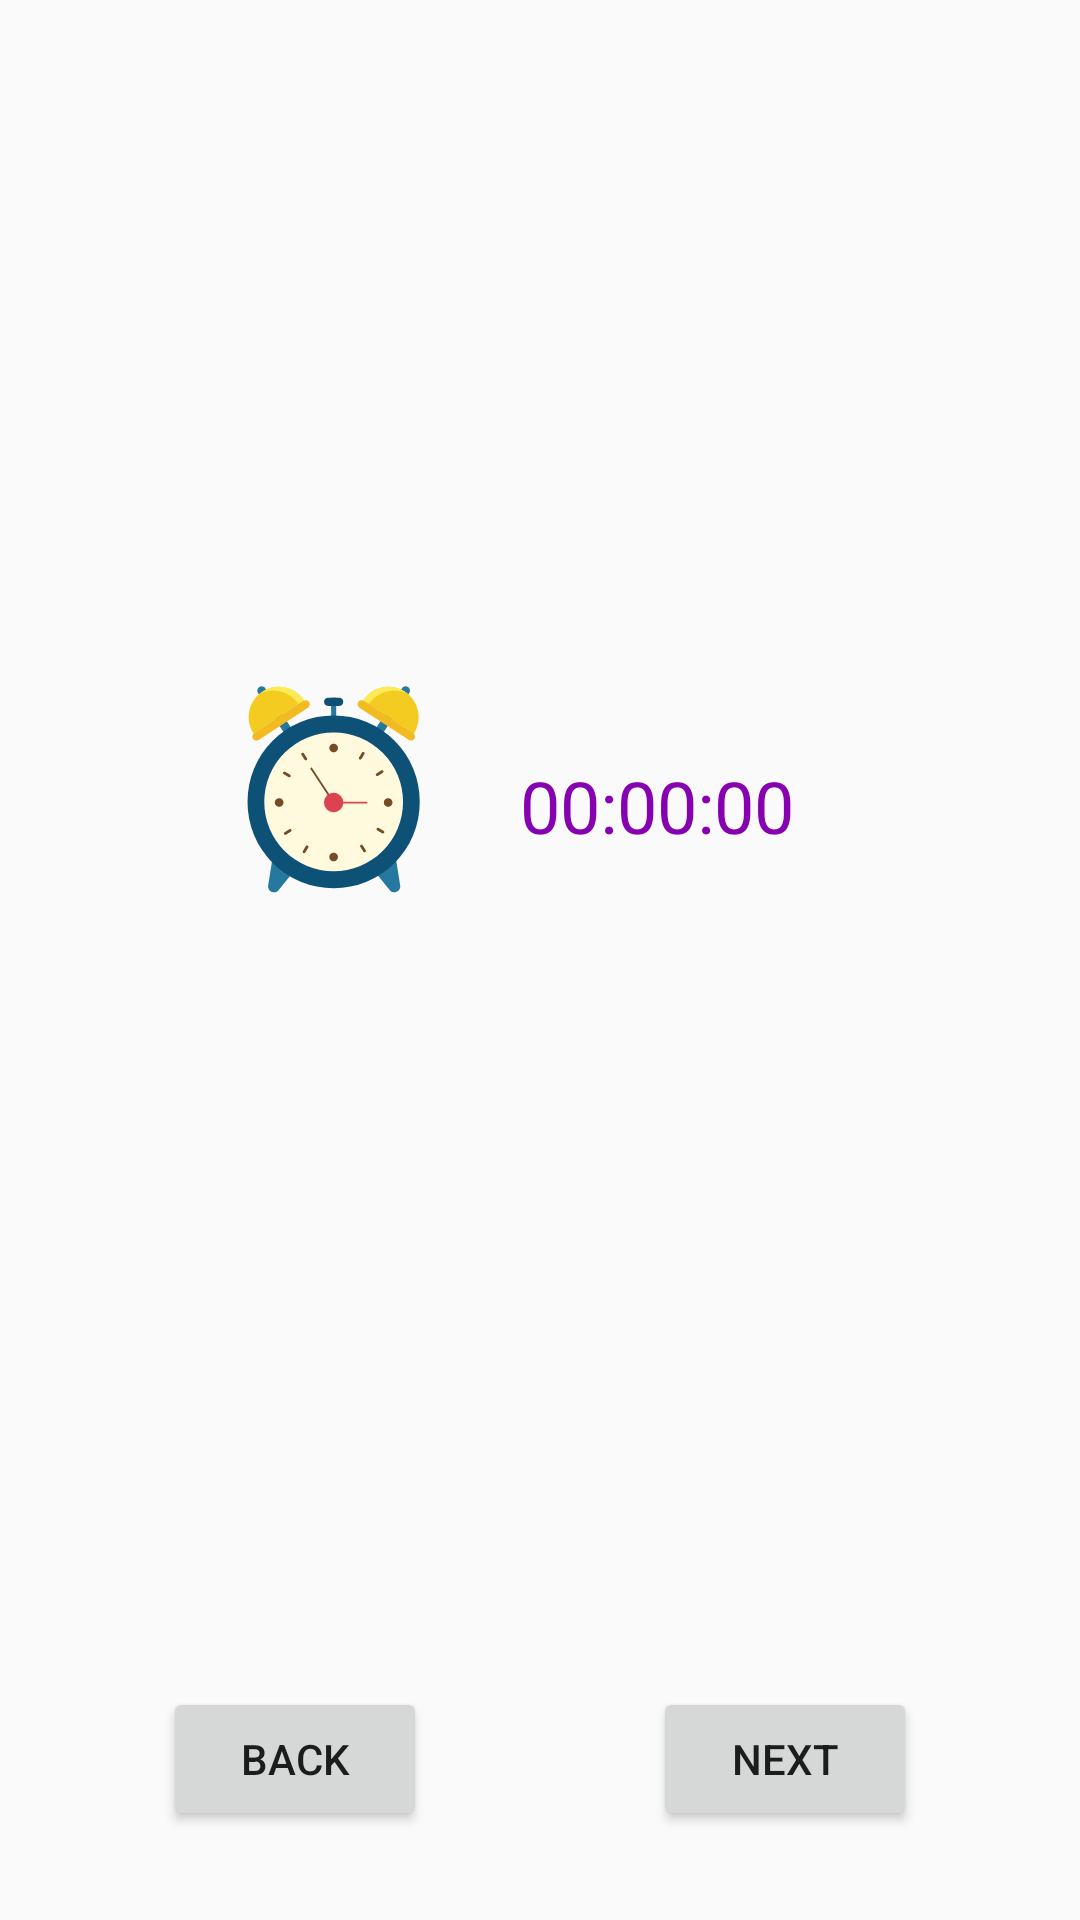

Icons on this 1080px×1920px Android screen, each with its box as (x1, y1, x2, y2):
Alarm Clock: (247, 686, 420, 893)
